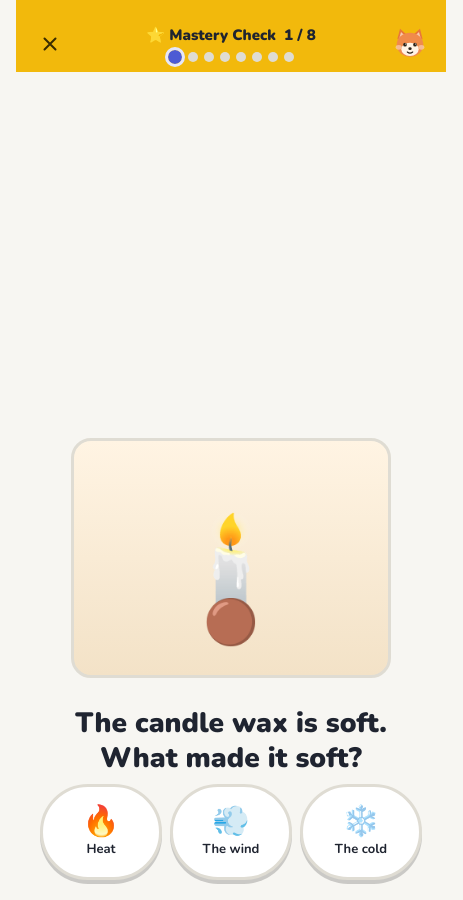
Test: Science Level 1 di layar › soal pick-picture: kartu menunjukkan ikon dan akibatnya, jawaban benar dinilai benar
expect the text "The candle wax is soft. What made it soft?" is shown: met, box [75,704,387,777]
expect the button "💨 The wind" is shown: met, box [170,784,292,880]
Click the button "🔥 Heat". click: coordinates (101, 832)
box: [40,784,162,880]
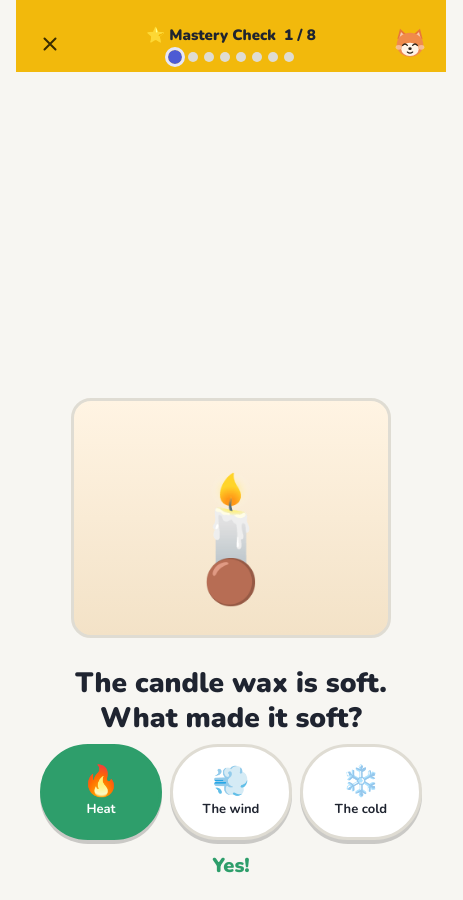
expect the message reads "Yes!": met, box [212,852,250,879]
